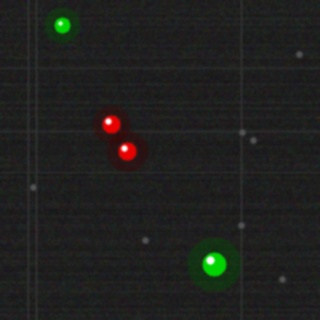green_normal: (200, 250, 228, 278), (52, 15, 72, 35)
red_fault: (100, 113, 122, 135), (116, 140, 138, 162)
